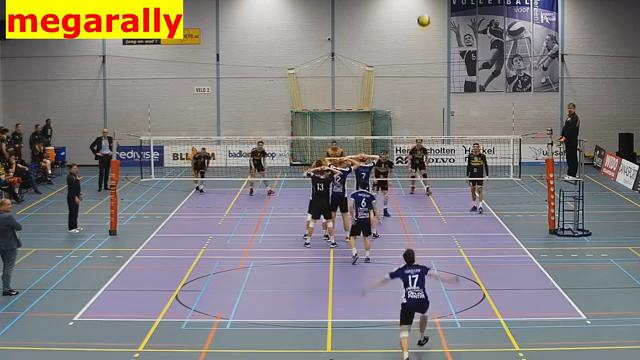battuta: (356, 245, 476, 355)
